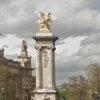Statue: (24, 5, 65, 92)
